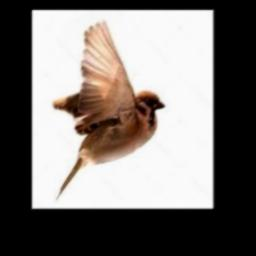Sparrow: (53, 19, 165, 200)
